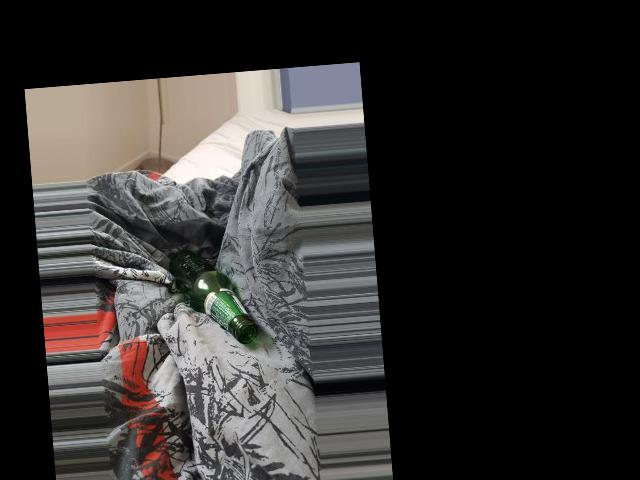beer: (167, 245, 258, 349)
